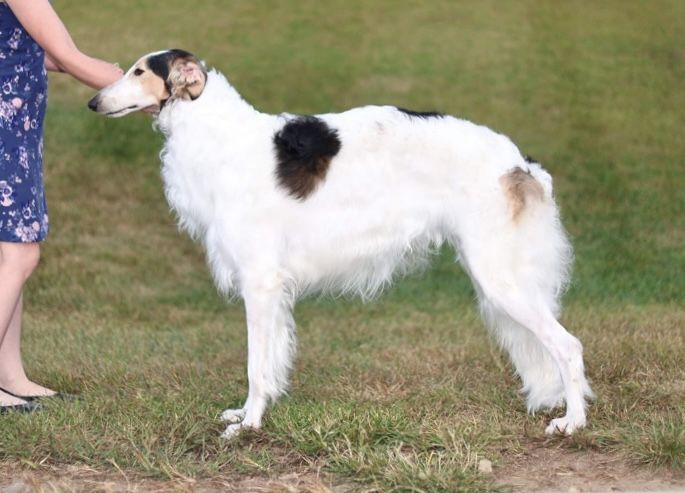borzoi: (70, 45, 615, 444)
